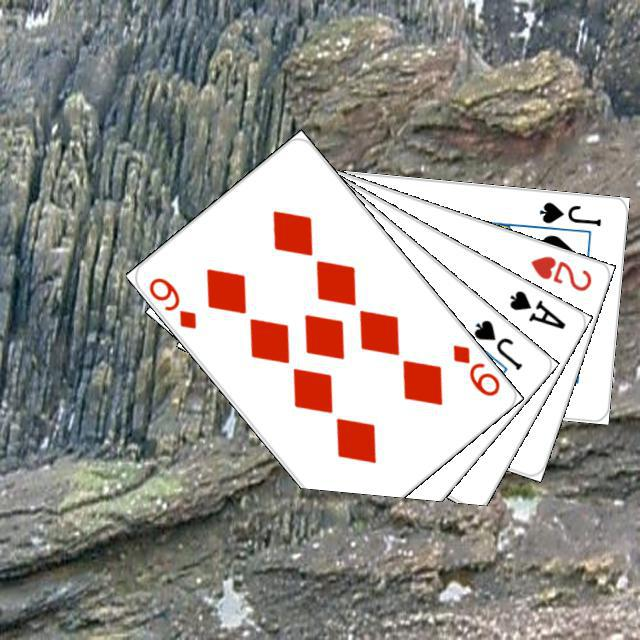2h: (526, 251, 594, 293)
9d: (143, 272, 199, 331), (447, 339, 502, 399)
As: (504, 285, 568, 332)
Js: (468, 315, 524, 372), (534, 197, 603, 228)
